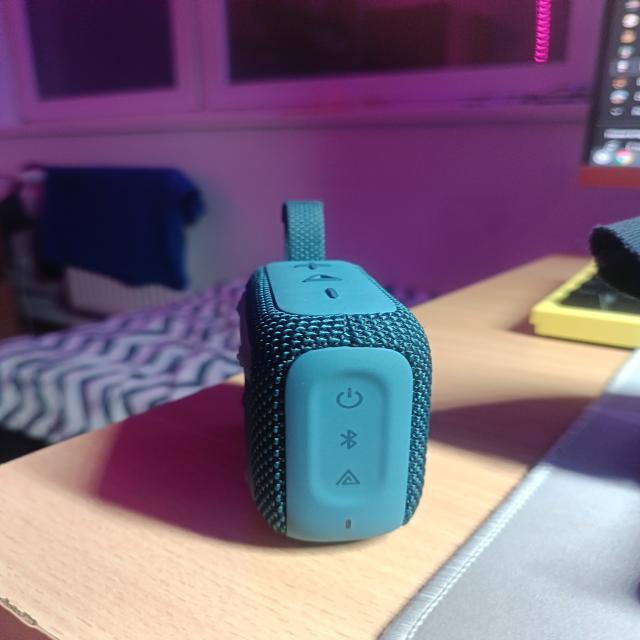column JBL: (238, 201, 432, 542)
